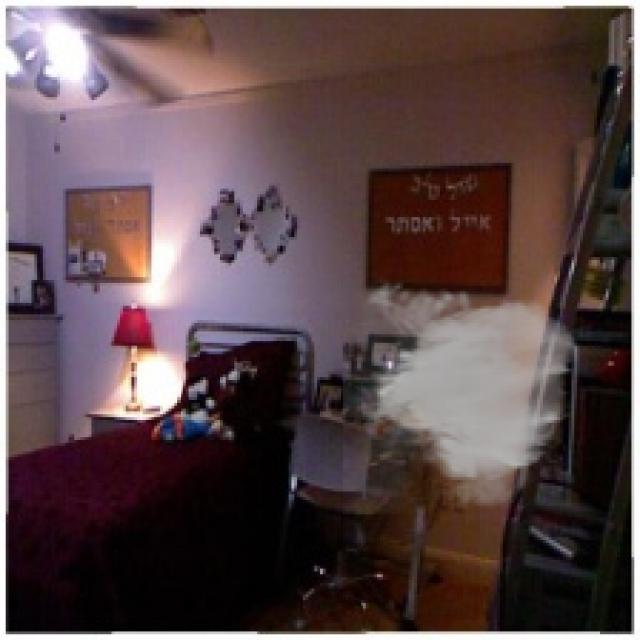Smoke: (343, 274, 583, 514)
